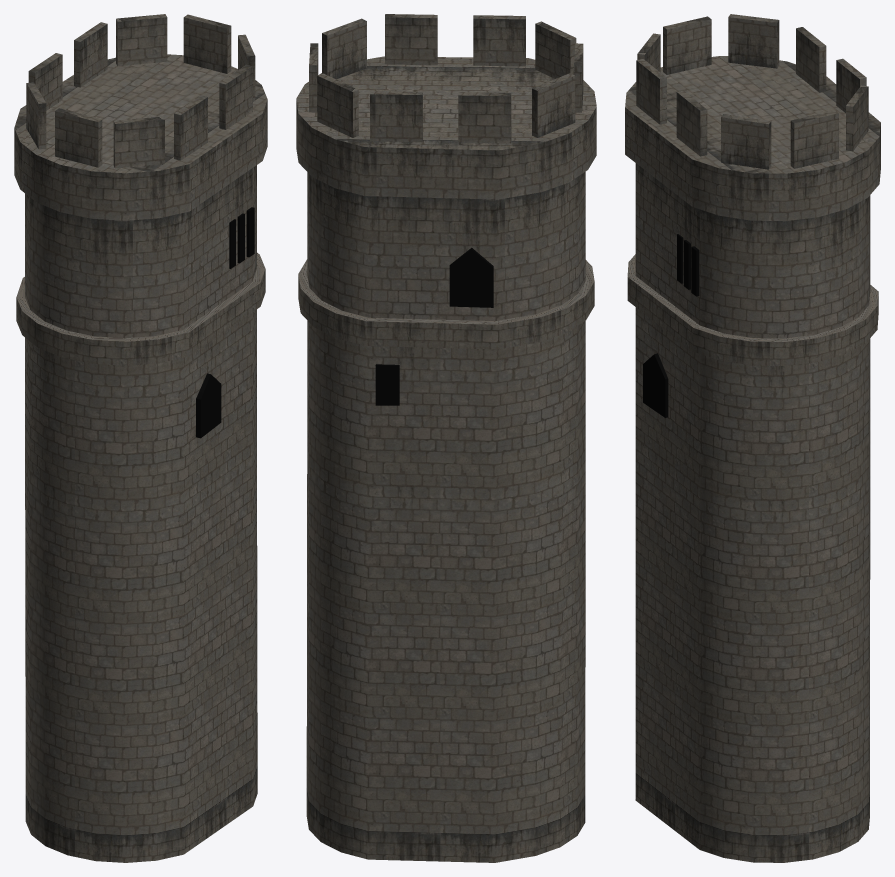
File: Castle_Side_2.glb
3 renders of one model, left to right at view 1: azimuth 30°, elevation 25°; view 2: azimuth 150°, elevation 25°; view 3: azimuth 270°, elevation 25°, orthographic. The views are drawn at different scales.
Visible parts, largest first — view 1: SM_Castle_Side_2; view 2: SM_Castle_Side_2; view 3: SM_Castle_Side_2.
Part boxes in pixels (<box>): SM_Castle_Side_2: <box>14,14,267,862</box>; SM_Castle_Side_2: <box>296,14,596,862</box>; SM_Castle_Side_2: <box>625,14,880,862</box>.
Size of the model in its own units: 16.17 by 47.25 by 14.82.
Materials: 2 (1 with a texture image).
